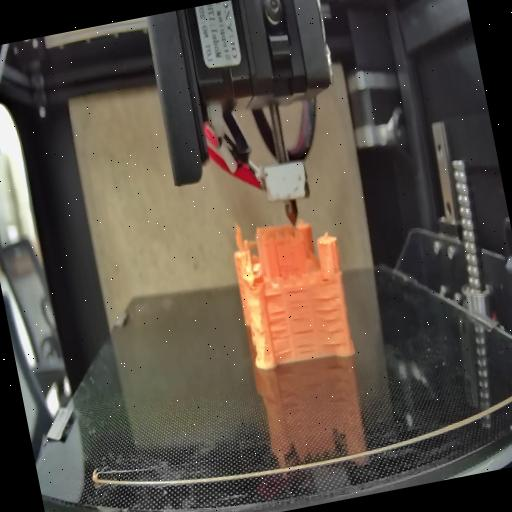cracks: (310, 292, 348, 348), (266, 308, 294, 356), (283, 286, 313, 324), (290, 324, 320, 356), (318, 270, 334, 286), (264, 291, 282, 301)
